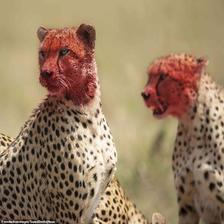Cheetah: (0, 20, 120, 222), (0, 126, 168, 222), (139, 48, 224, 224)
